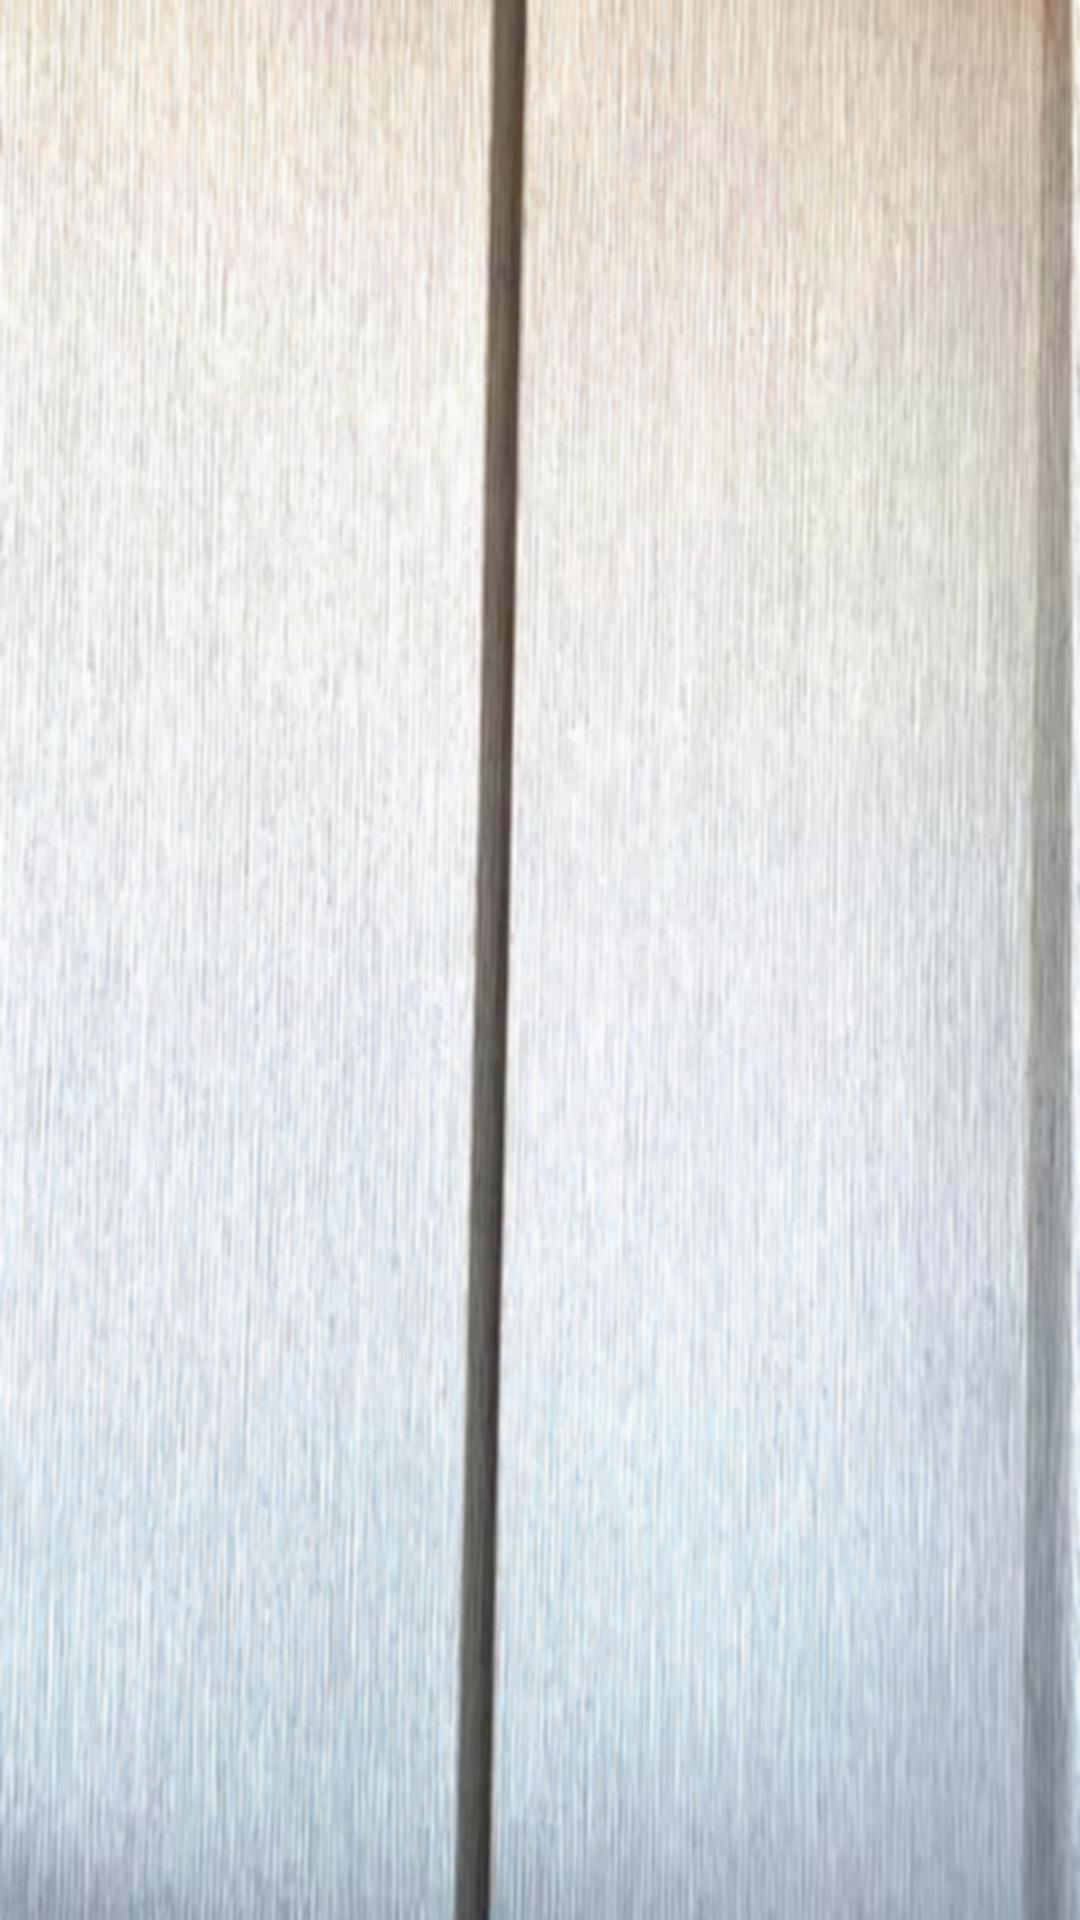Armario: (26, 8, 1067, 1905)
